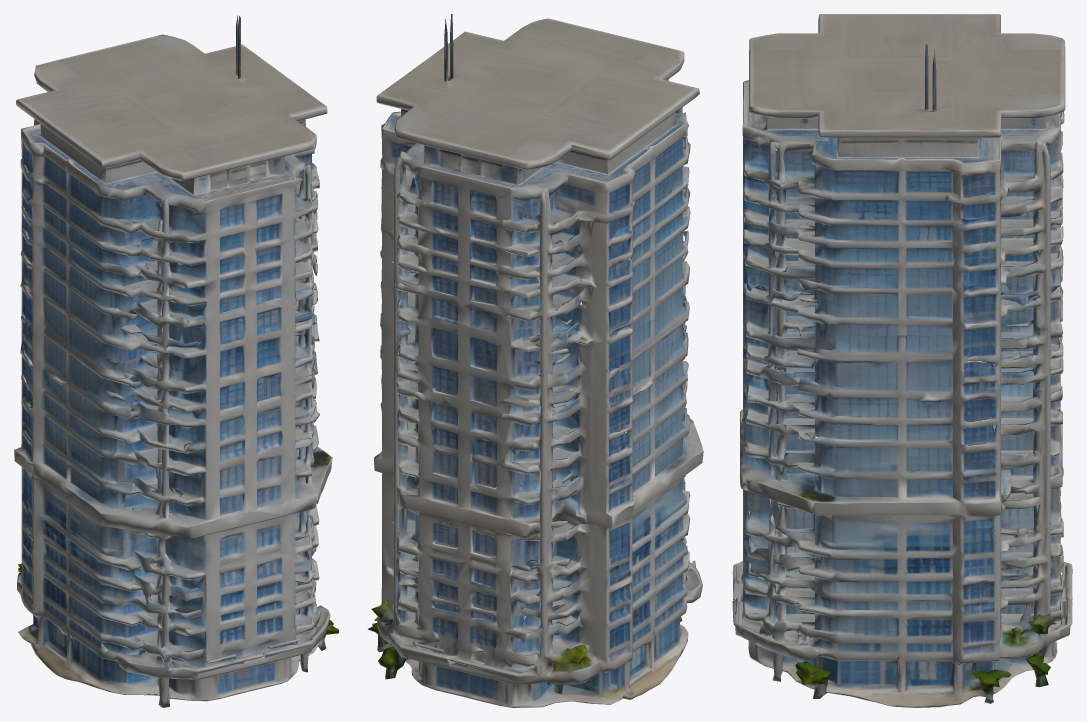
The model's file is tower.glb.
3 views of the same model, side by side, from view 1: azimuth 30°, elevation 25°; view 2: azimuth 150°, elevation 25°; view 3: azimuth 270°, elevation 25° (orthographic). The views are drawn at different scales.
Parts seen in each view (by area): view 1: tripo_node_a40b0d3f-04d2-49b0-a3fb-e236eeb8d9c7; view 2: tripo_node_a40b0d3f-04d2-49b0-a3fb-e236eeb8d9c7; view 3: tripo_node_a40b0d3f-04d2-49b0-a3fb-e236eeb8d9c7.
Part boxes in pixels (left/top/right/bottom): tripo_node_a40b0d3f-04d2-49b0-a3fb-e236eeb8d9c7: left=14, top=15, right=338, bottom=707; tripo_node_a40b0d3f-04d2-49b0-a3fb-e236eeb8d9c7: left=368, top=14, right=703, bottom=707; tripo_node_a40b0d3f-04d2-49b0-a3fb-e236eeb8d9c7: left=732, top=14, right=1072, bottom=707.
Size of the model in its own units: 31.66 by 75 by 35.96.
1 material, 1 textured.
